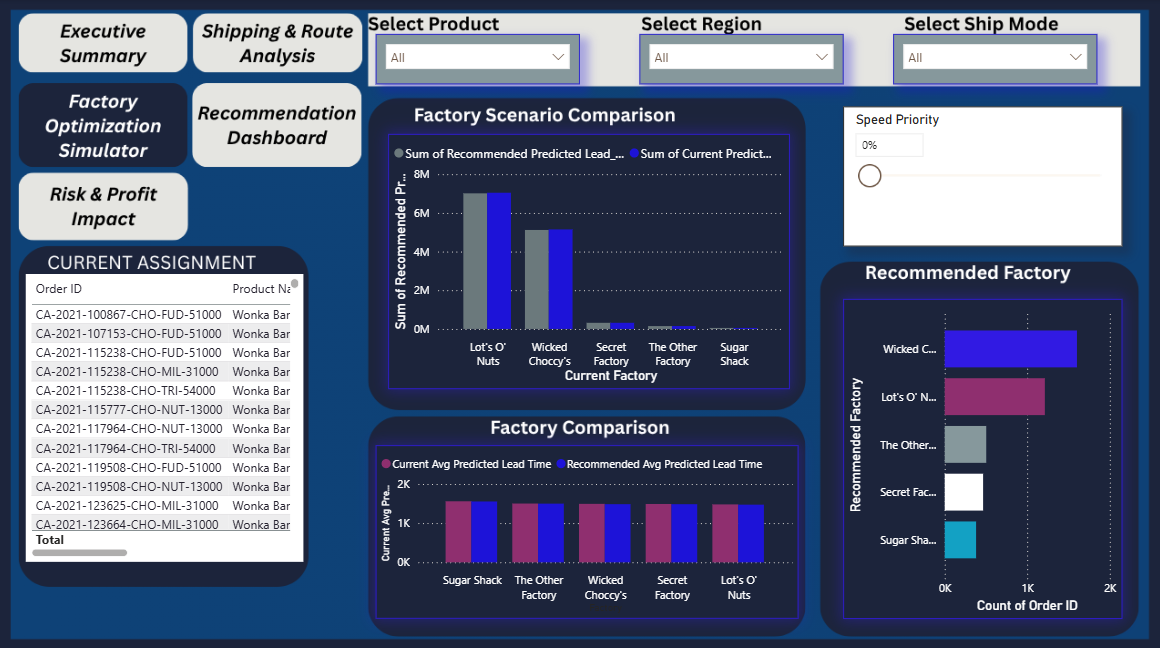

Layout of this report page (visuals, bound fields, positions):
{"tool":"powerbi","page":{"name":"Factory Optimization Simulator","canvas":[1280,720],"ordinal":3},"visuals":[{"type":"slicer","fields":{"Values":["Nassau_Candy_Cleaned (2).Product Name"]},"box":[415.8,38.4,223.7,54.9],"z":0},{"type":"slicer","fields":{"Values":["Nassau_Candy_Cleaned (2).Region"]},"box":[705.3,38.4,223.7,54.9],"z":1000},{"type":"slicer","fields":{"Values":["Nassau_Candy_Cleaned (2).Ship Mode"]},"box":[983.9,38.4,223.7,54.9],"z":2000},{"type":"clusteredColumnChart","fields":{"Category":["Nassau_Candy_Cleaned (2).Factory"],"Y":["order_recommendations (1).Current Avg Predicted Lead Time","order_recommendations (1).Recommended Avg Predicted Lead Time"]},"box":[415.8,489.9,463.8,190.7],"z":3000},{"type":"tableEx","fields":{"Values":["order_recommendations (1).Order ID","order_recommendations (1).Product Name","order_recommendations (1).Current Factory","Sum(order_recommendations (1).Current Predicted Lead_Time)"]},"box":[31.6,301.9,304.6,315.6],"z":4000},{"type":"clusteredBarChart","fields":{"Y":["CountNonNull(reassignment_recommendations.Order ID)"],"Category":["reassignment_recommendations.Recommended Factory"]},"box":[929,329.3,306,351.3],"z":5000},{"type":"clusteredColumnChart","fields":{"Category":["order_recommendations (1).Current Factory"],"Y":["Sum(order_recommendations (1).Recommended Predicted Lead_Time)","Sum(order_recommendations (1).Current Predicted Lead_Time)"]},"box":[429.5,148.2,440.5,279.9],"z":6000},{"type":"slicer","fields":{"Values":["Speed Priority.Speed Priority"]},"box":[929,118,306,153.7],"z":7000},{"type":"actionButton","box":[210.4,80.3,192.8,102.8],"z":8000},{"type":"actionButton","box":[24.1,183.1,186.3,88.4],"z":9000},{"type":"actionButton","box":[24.1,14.5,179.9,62.7],"z":10000},{"type":"actionButton","box":[210.4,14.5,192.8,65.9],"z":11000}]}

Visuals, with their boxes in screenshot pixels (x1, y1, x2, y2), scaled from the page's 1280x720 canvas onto the 1160x648 screenshot:
slicer - Nassau_Candy_Cleaned (2).Product Name: {"x1": 377, "y1": 35, "x2": 580, "y2": 84}
slicer - Nassau_Candy_Cleaned (2).Region: {"x1": 639, "y1": 35, "x2": 842, "y2": 84}
slicer - Nassau_Candy_Cleaned (2).Ship Mode: {"x1": 892, "y1": 35, "x2": 1094, "y2": 84}
clusteredColumnChart - Nassau_Candy_Cleaned (2).Factory x order_recommendations (1).Current Avg Predicted Lead Time: {"x1": 377, "y1": 441, "x2": 797, "y2": 613}
tableEx - order_recommendations (1).Order ID x order_recommendations (1).Product Name: {"x1": 29, "y1": 272, "x2": 305, "y2": 556}
clusteredBarChart - CountNonNull(reassignment_recommendations.Order ID) x reassignment_recommendations.Recommended Factory: {"x1": 842, "y1": 296, "x2": 1119, "y2": 613}
clusteredColumnChart - order_recommendations (1).Current Factory x Sum(order_recommendations (1).Recommended Predicted Lead_Time): {"x1": 389, "y1": 133, "x2": 788, "y2": 385}
slicer - Speed Priority.Speed Priority: {"x1": 842, "y1": 106, "x2": 1119, "y2": 245}
actionButton: {"x1": 191, "y1": 72, "x2": 365, "y2": 165}
actionButton: {"x1": 22, "y1": 165, "x2": 191, "y2": 244}
actionButton: {"x1": 22, "y1": 13, "x2": 185, "y2": 69}
actionButton: {"x1": 191, "y1": 13, "x2": 365, "y2": 72}
